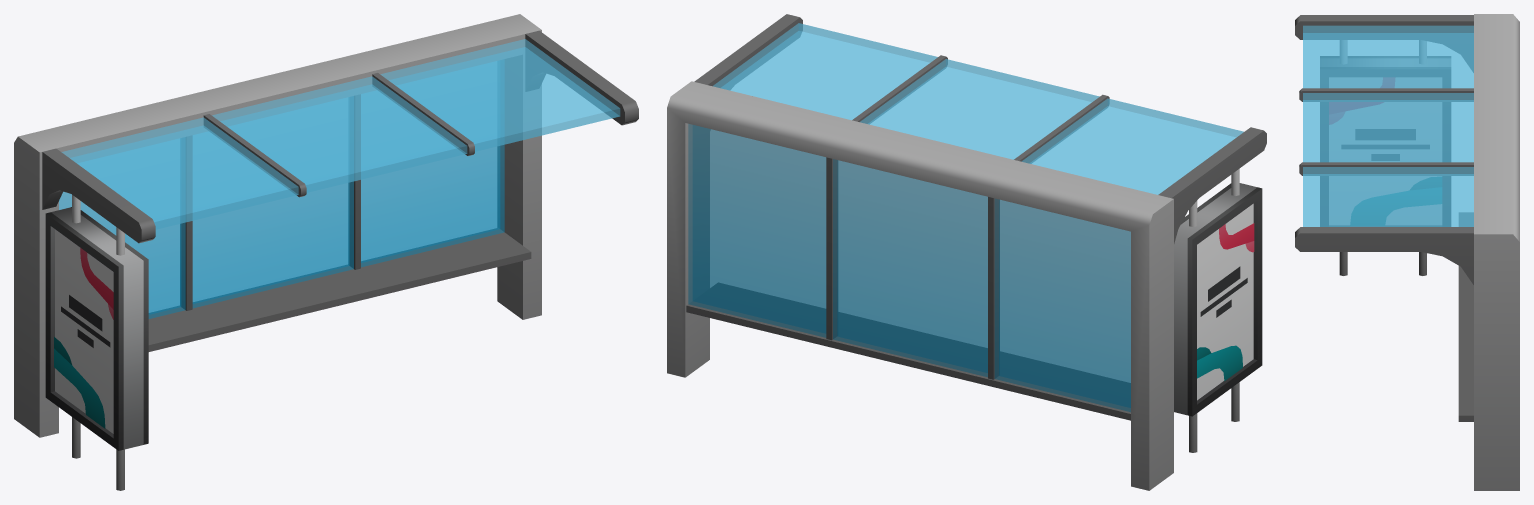
File: Bus_Stop_02.glb
3 views of the same model, side by side, from view 1: azimuth 30°, elevation 25°; view 2: azimuth 150°, elevation 25°; view 3: azimuth 270°, elevation 25° (orthographic). The views are drawn at different scales.
Visible parts, largest first — view 1: Bus_Stop_02; view 2: Bus_Stop_02; view 3: Bus_Stop_02.
Boxes of the visible parts, x1,y1,x2,y2 form: Bus_Stop_02: (14, 14, 638, 490); Bus_Stop_02: (667, 14, 1266, 490); Bus_Stop_02: (1295, 14, 1519, 490).
Bounding box in the file's own units: 4.66 × 2.5 × 1.98.
Materials: 2 (2 with a texture image).
